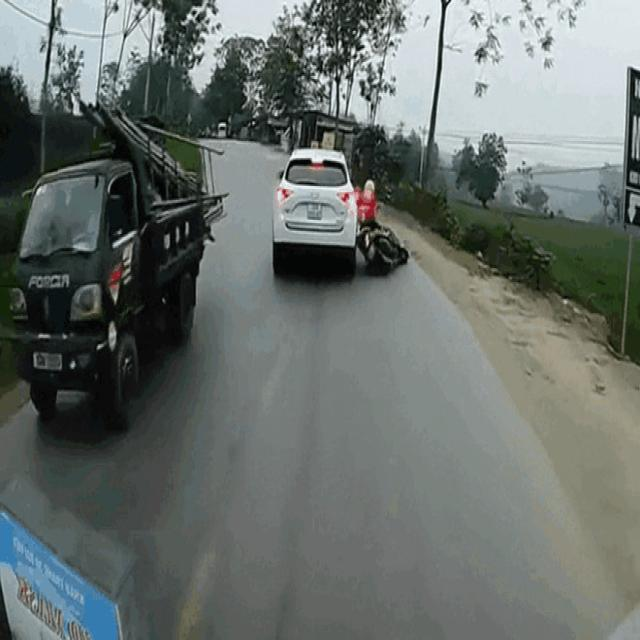multiple_accident: (272, 142, 410, 303)
